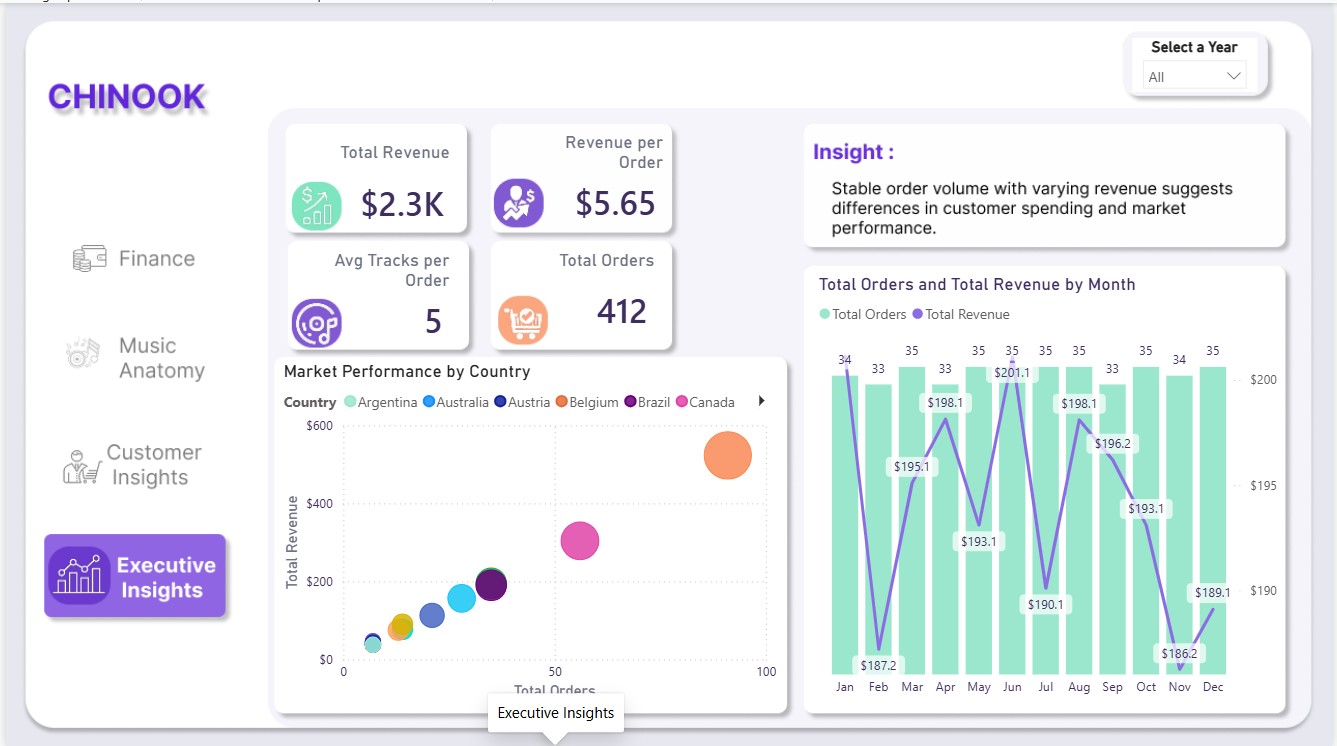

What the dashboard file says about the page in this screenshot:
{"tool":"powerbi","page":{"name":"Executive Insights","canvas":[1280,720],"ordinal":3},"visuals":[{"type":"lineStackedColumnComboChart","fields":{"Category":["DateTable.Month"],"Y":["_Measures.Total Orders"],"Y2":["_Measures.Total Revenue"]},"box":[778.9,260.4,452.7,417.4],"z":0},{"type":"scatterChart","title":"Market Performance by Country","fields":{"X":["_Measures.Total Orders"],"Y":["_Measures.Total Revenue"],"Size":["_Measures.Total Customers"],"Category":["customer.Country"],"Series":["customer.Country"]},"box":[262.9,345.6,485.6,332.2],"z":1000},{"type":"slicer","title":"Select a Year","fields":{"Values":["DateTable.Year"]},"box":[1086.7,34.1,120.5,52.3],"z":2000},{"type":"cardVisual","title":"Total Revenue","fields":{"Data":["_Measures.Total Revenue"]},"box":[301,134,133,93],"z":3000},{"type":"cardVisual","title":"Revenue per Order","fields":{"Data":["_Measures.Revenue per Order"]},"box":[506.3,124.1,132.6,92.5],"z":4000},{"type":"cardVisual","title":"Avg Tracks per Order","fields":{"Data":["_Measures.Avg Tracks per Order"]},"box":[300.6,237.3,132.6,92.5],"z":5000},{"type":"cardVisual","title":"Total Orders","fields":{"Data":["_Measures.Total Orders"]},"box":[497.7,237.3,132.6,92.5],"z":6000},{"type":"actionButton","box":[29.2,503.8,189.8,96.1],"z":7000},{"type":"actionButton","box":[36.5,305.5,175.2,80.3],"z":8000},{"type":"actionButton","box":[38.9,406.5,175.2,80.3],"z":9000},{"type":"actionButton","box":[36.5,203.2,182.5,80.3],"z":10000}]}

Visuals, with their boxes on the page's 1280x720 design canvas (x1, y1, x2, y2). These are canvas units, not pixel positions in the 1337x746 screenshot, which may show the page scaled, cropped or inside an application window:
lineStackedColumnComboChart - DateTable.Month x _Measures.Total Orders: detection(779, 260, 1232, 678)
"Market Performance by Country" scatterChart: detection(263, 346, 748, 678)
"Select a Year" slicer: detection(1087, 34, 1207, 86)
"Total Revenue" cardVisual: detection(301, 134, 434, 227)
"Revenue per Order" cardVisual: detection(506, 124, 639, 217)
"Avg Tracks per Order" cardVisual: detection(301, 237, 433, 330)
"Total Orders" cardVisual: detection(498, 237, 630, 330)
actionButton: detection(29, 504, 219, 600)
actionButton: detection(36, 306, 212, 386)
actionButton: detection(39, 406, 214, 487)
actionButton: detection(36, 203, 219, 284)
